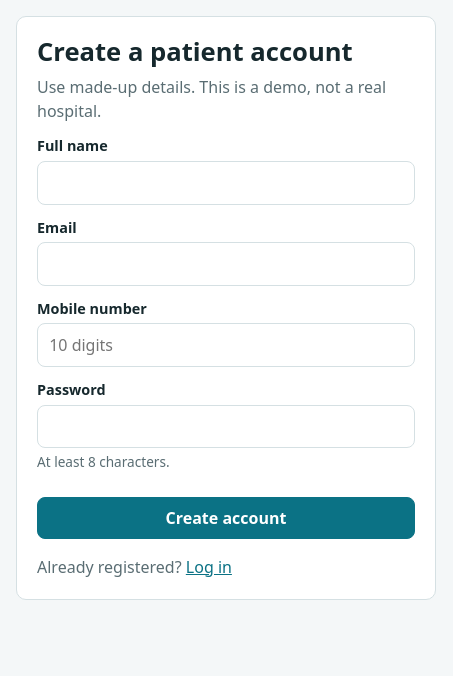
Register › rejects a short password
The image size is (453, 676).
Type "Asha Rao" into the field labelled "Full name" at point(226, 183), box [37, 161, 415, 205]
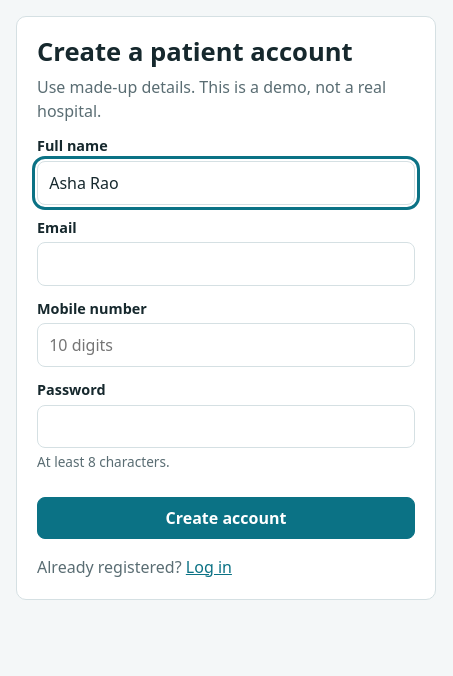
Type "asha@example.com" into the field labelled "Email" at point(226, 264), box [37, 242, 415, 286]
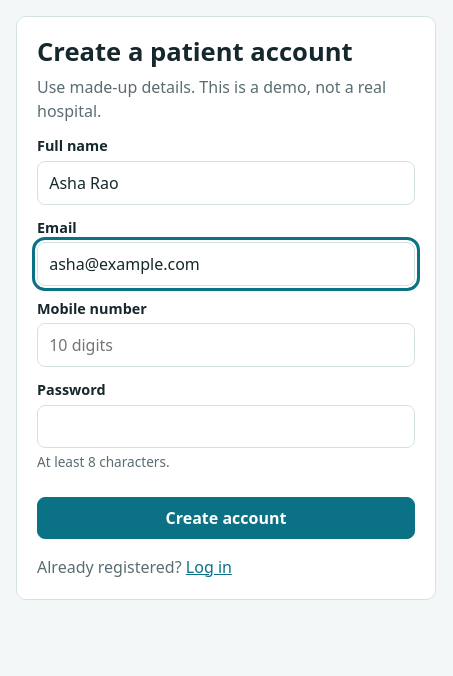
Type "9876543210" into the field labelled "Mobile number" at point(226, 345), box [37, 323, 415, 367]
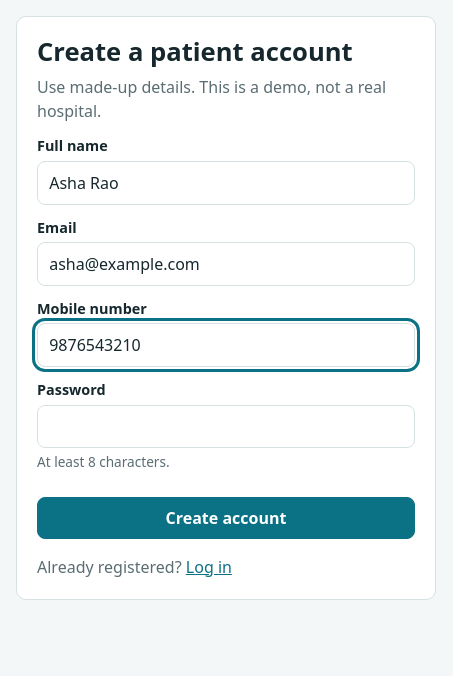
Type "short" into the password field labelled "Password" at point(226, 426), box [37, 405, 415, 448]
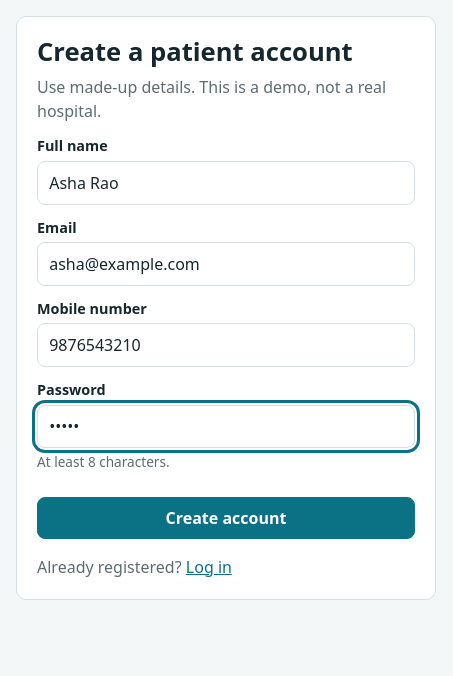
Click the button "Create account" at point(226, 518), box [37, 497, 415, 539]
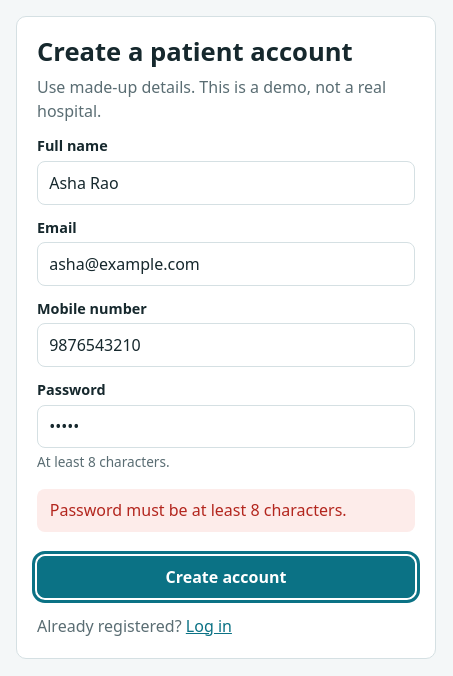
Check: the message shows "at least 8 characters", box [50, 499, 347, 521]
